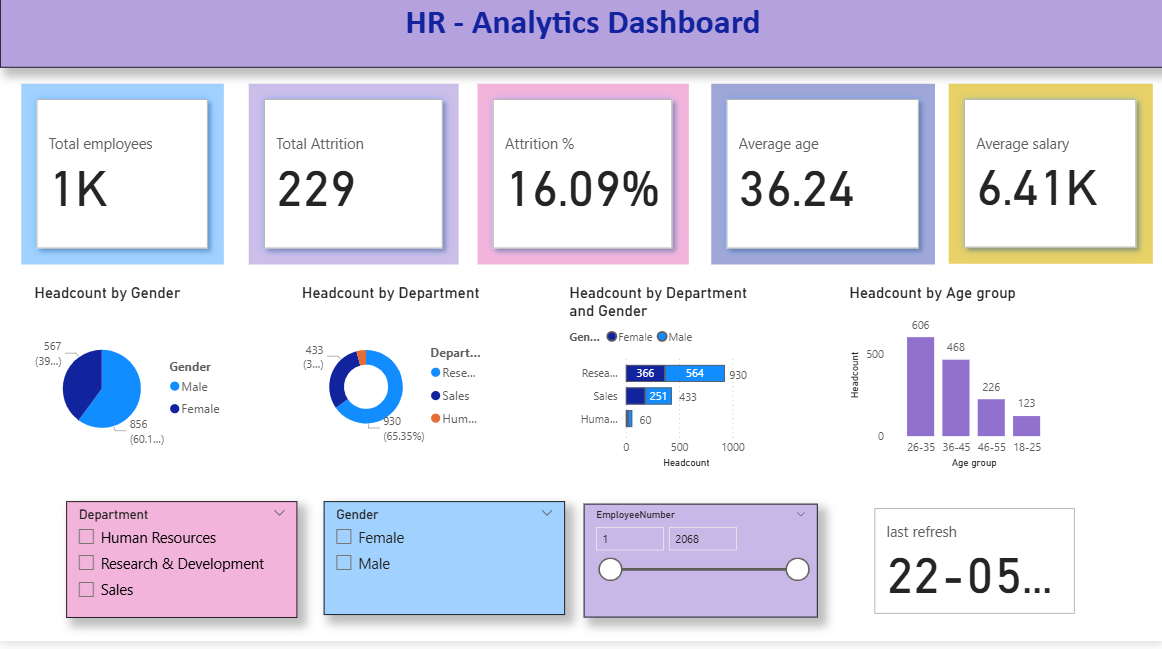

Layout of this report page (visuals, bound fields, positions):
{"tool":"powerbi","page":{"name":"Page 1","canvas":[1280,720],"ordinal":0},"visuals":[{"type":"cardVisual","fields":{"Data":["HR data.Total employees"]},"box":[22.9,108.2,222.5,198.1],"z":0},{"type":"cardVisual","fields":{"Data":["HR data.Total Attrition"]},"box":[272.8,108.2,230.2,198.1],"z":1000},{"type":"cardVisual","fields":{"Data":["HR data.Attrition %"]},"box":[524.3,108.2,231.7,198.1],"z":2000},{"type":"cardVisual","fields":{"Data":["HR data.Average salary"]},"box":[1041,108.2,239.3,198.1],"z":3000},{"type":"cardVisual","fields":{"Data":["HR data.Average age"]},"box":[780.4,108.2,245.4,198.1],"z":4000},{"type":"pieChart","fields":{"Category":["HR data.Gender"],"Y":["HR data.Headcount"]},"box":[33.5,327.7,224.1,211.9],"z":5000},{"type":"donutChart","fields":{"Category":["HR data.Department"],"Y":["HR data.Headcount"]},"box":[326.2,327.7,211.9,207.3],"z":6000},{"type":"barChart","fields":{"Category":["HR data.Department"],"Y":["HR data.Headcount"],"Series":["HR data.Gender"]},"box":[620.3,327.7,218,207.3],"z":7000},{"type":"clusteredColumnChart","fields":{"Category":["HR data.Age group"],"Y":["HR data.Headcount"]},"box":[928.2,327.7,236.2,207.3],"z":8000},{"type":"slicer","fields":{"Values":["HR data.Department"]},"box":[134.1,570,254.5,126.5],"z":9000},{"type":"slicer","fields":{"Values":["HR data.Gender"]},"box":[467.9,570,265.2,125],"z":10000},{"type":"slicer","fields":{"Values":["HR data.EmployeeNumber"]},"box":[818.5,570,256.1,125],"z":11000},{"type":"textbox","box":[0,0,1280.3,108.2],"z":12000},{"type":"cardVisual","fields":{"Data":["HR data.last refresh"]},"box":[1097.8,569.5,182.5,126.2],"z":13000}]}

Visuals, with their boxes in screenshot pixels (x1, y1, x2, y2), scaled from the page's 1280x720 canvas onto the 1162x649 screenshot:
cardVisual - HR data.Total employees: pyautogui.locateOnScreen(21, 98, 223, 276)
cardVisual - HR data.Total Attrition: pyautogui.locateOnScreen(248, 98, 457, 276)
cardVisual - HR data.Attrition %: pyautogui.locateOnScreen(476, 98, 686, 276)
cardVisual - HR data.Average salary: pyautogui.locateOnScreen(945, 98, 1161, 276)
cardVisual - HR data.Average age: pyautogui.locateOnScreen(708, 98, 931, 276)
pieChart - HR data.Gender x HR data.Headcount: pyautogui.locateOnScreen(30, 295, 234, 486)
donutChart - HR data.Department x HR data.Headcount: pyautogui.locateOnScreen(296, 295, 488, 482)
barChart - HR data.Department x HR data.Headcount: pyautogui.locateOnScreen(563, 295, 761, 482)
clusteredColumnChart - HR data.Age group x HR data.Headcount: pyautogui.locateOnScreen(843, 295, 1057, 482)
slicer - HR data.Department: pyautogui.locateOnScreen(122, 514, 353, 628)
slicer - HR data.Gender: pyautogui.locateOnScreen(425, 514, 666, 626)
slicer - HR data.EmployeeNumber: pyautogui.locateOnScreen(743, 514, 976, 626)
textbox: pyautogui.locateOnScreen(0, 0, 1161, 98)
cardVisual - HR data.last refresh: pyautogui.locateOnScreen(997, 513, 1161, 627)
